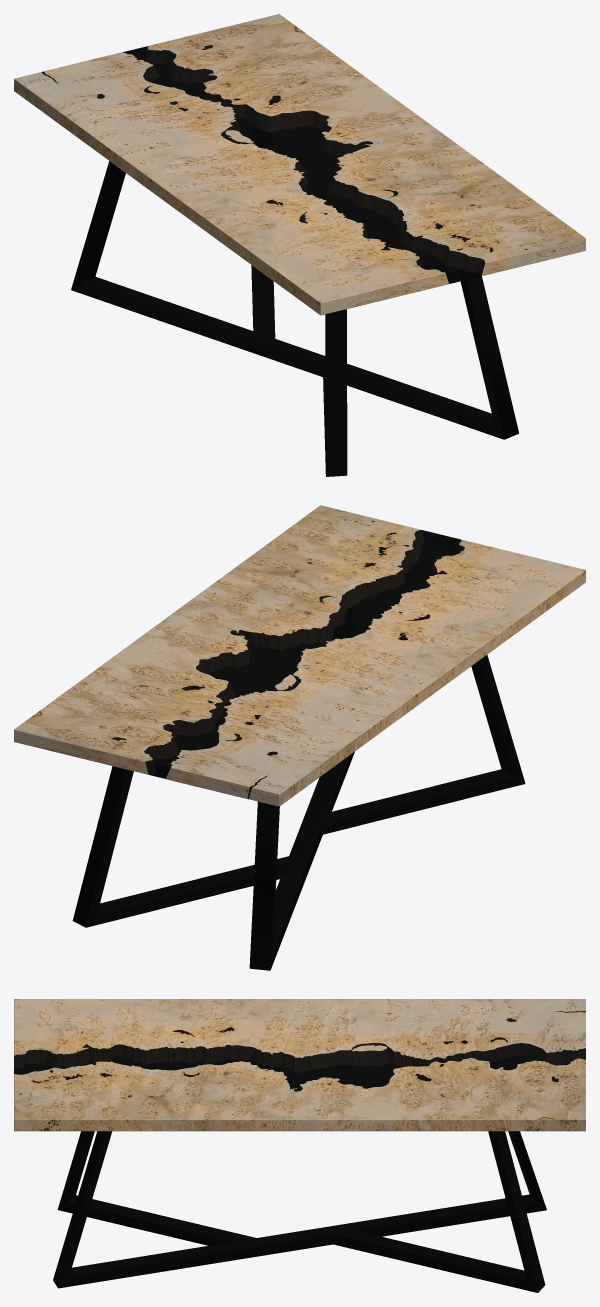
3 views of the same model, one above another, from view 1: azimuth 30°, elevation 25°; view 2: azimuth 150°, elevation 25°; view 3: azimuth 270°, elevation 25° (orthographic). The views are drawn at different scales.
Parts seen in each view (by area): view 1: Box5826, Line1789528345, Box5828; view 2: Box5826, Line1789528345, Box5828; view 3: Box5826, Line1789528345, Box5828.
Part boxes in pixels (x1=…): Box5826: x1=14, y1=14, x2=585, y2=315; Line1789528345: x1=71, y1=161, x2=518, y2=476; Box5828: x1=42, y1=45, x2=493, y2=283; Box5826: x1=14, y1=505, x2=585, y2=806; Line1789528345: x1=72, y1=655, x2=525, y2=970; Box5828: x1=111, y1=530, x2=464, y2=799; Box5826: x1=14, y1=999, x2=585, y2=1131; Line1789528345: x1=53, y1=1131, x2=546, y2=1292; Box5828: x1=14, y1=1011, x2=585, y2=1091.
Size of the model in its own units: 1.1 by 0.8 by 2.2.
3 materials, 1 textured.
